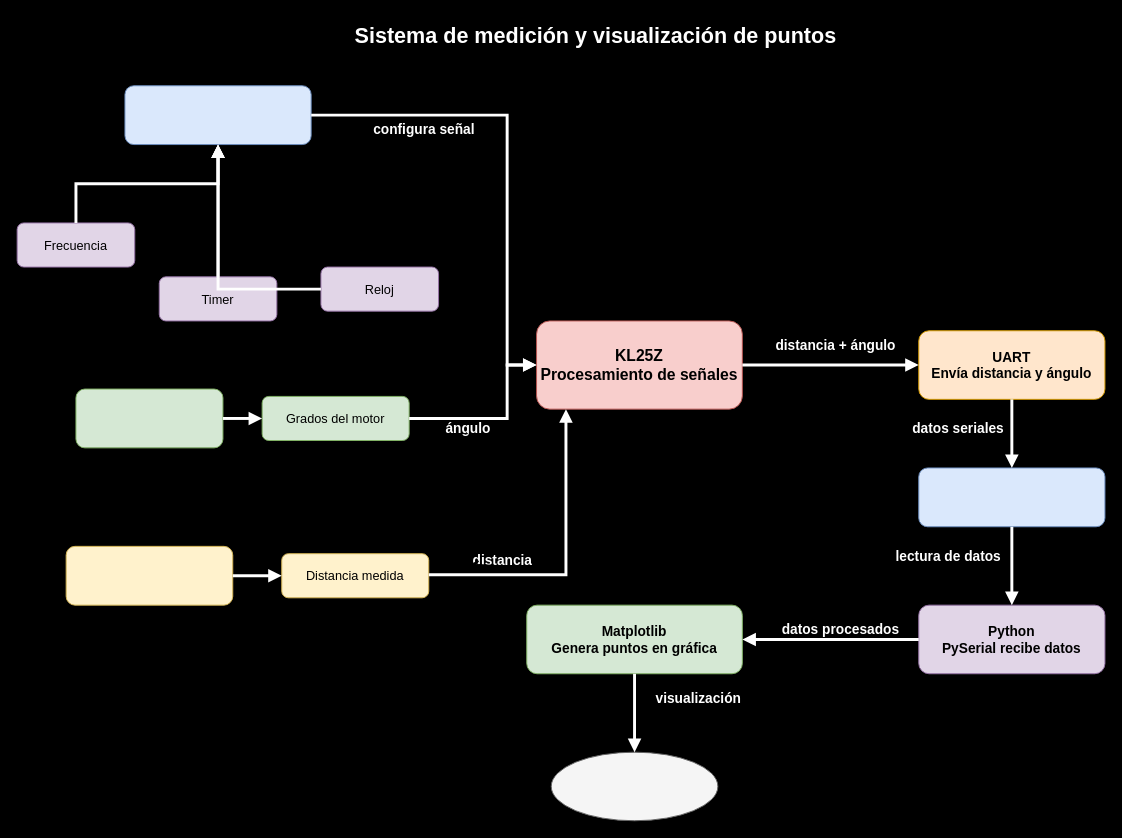
This 1122x838 diagram has some shape labels left out. Each missing label, with the centre of its shape:
"Computadora" goes at [1011,497].
"Generador de funciones" goes at [217,115].
"Motor" goes at [149,418].
"Puntos graficados (distancia, ángulo)" goes at [634,786].
"Sensor ultrasónico" goes at [149,575].
